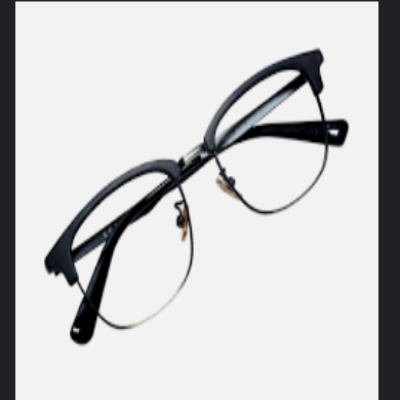glasses: (41, 45, 355, 348)
